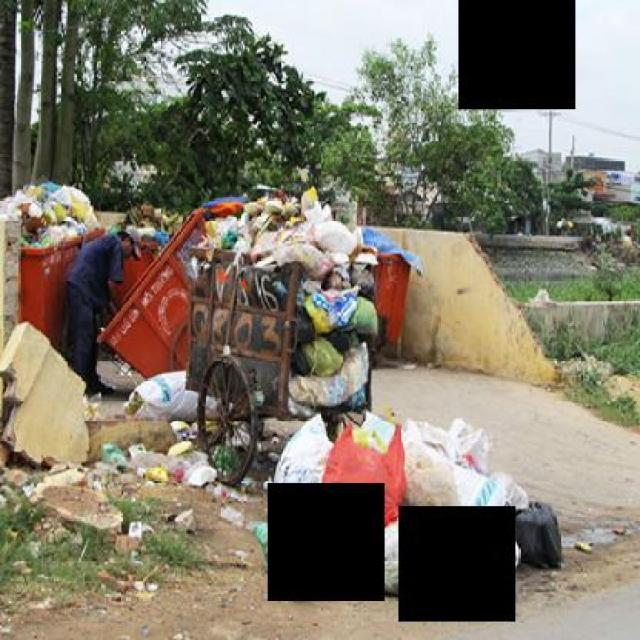plastic bag: (244, 418, 570, 600), (190, 185, 378, 417), (317, 417, 406, 517), (0, 176, 102, 247), (92, 434, 217, 488), (363, 514, 439, 598), (434, 523, 501, 595), (406, 440, 462, 526), (511, 500, 560, 566), (278, 543, 331, 595)
